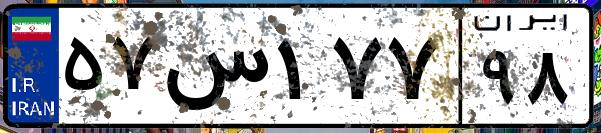1: (270, 28, 330, 110)
5: (57, 26, 110, 100)
7: (385, 28, 445, 110), (330, 28, 385, 110), (110, 28, 158, 98)
8: (525, 38, 570, 115)
9: (475, 38, 525, 113)
س: (158, 20, 270, 120)
